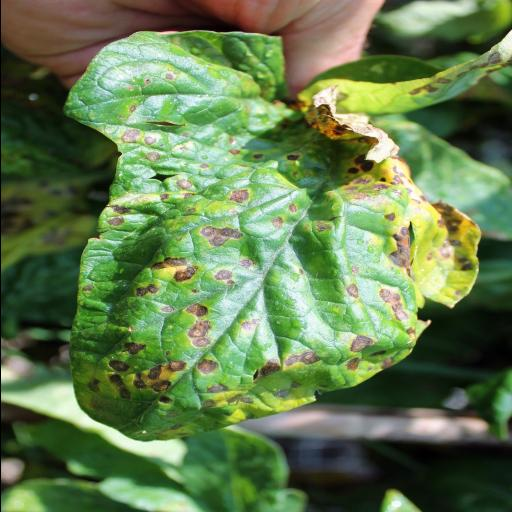Septoria: (54, 22, 482, 444)
